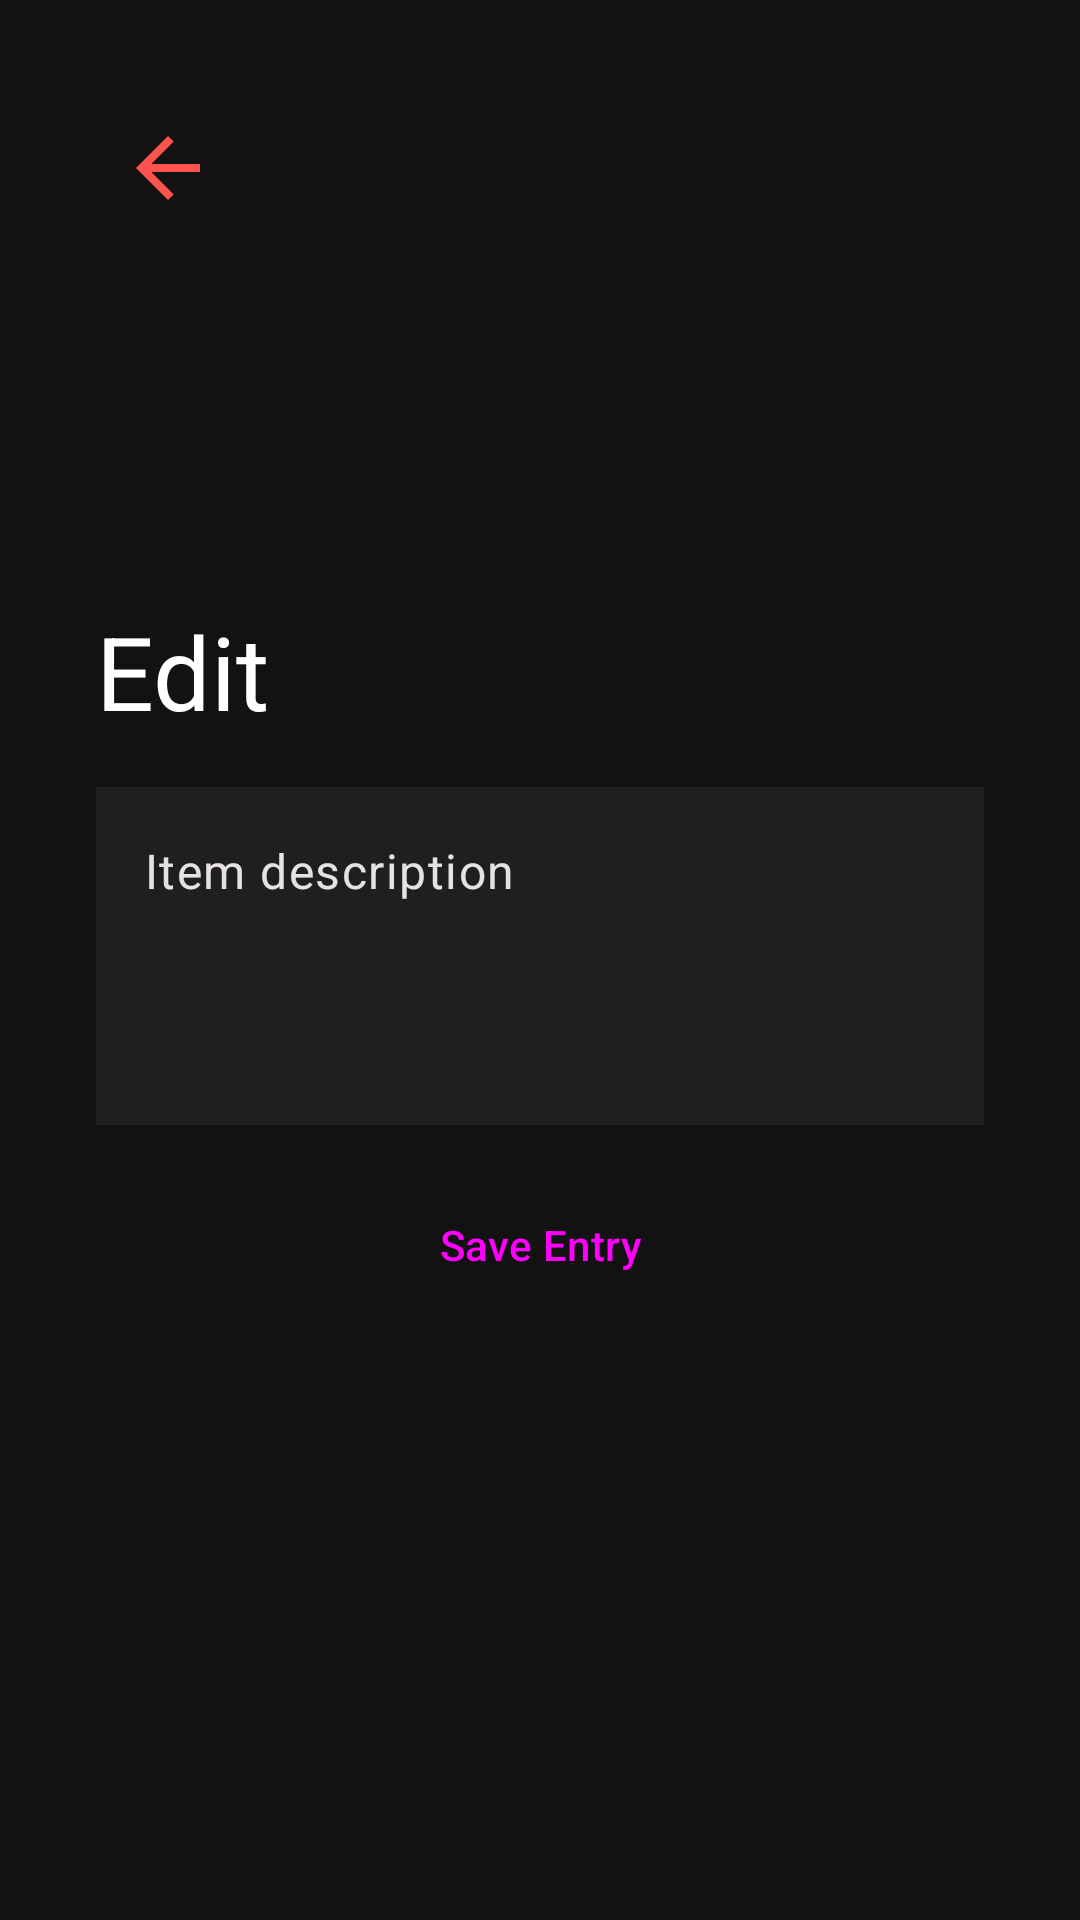

Point at icon controls on the screen. Image size 1080px x 1920px, points as point (x, y).
Back: point (168, 168)
